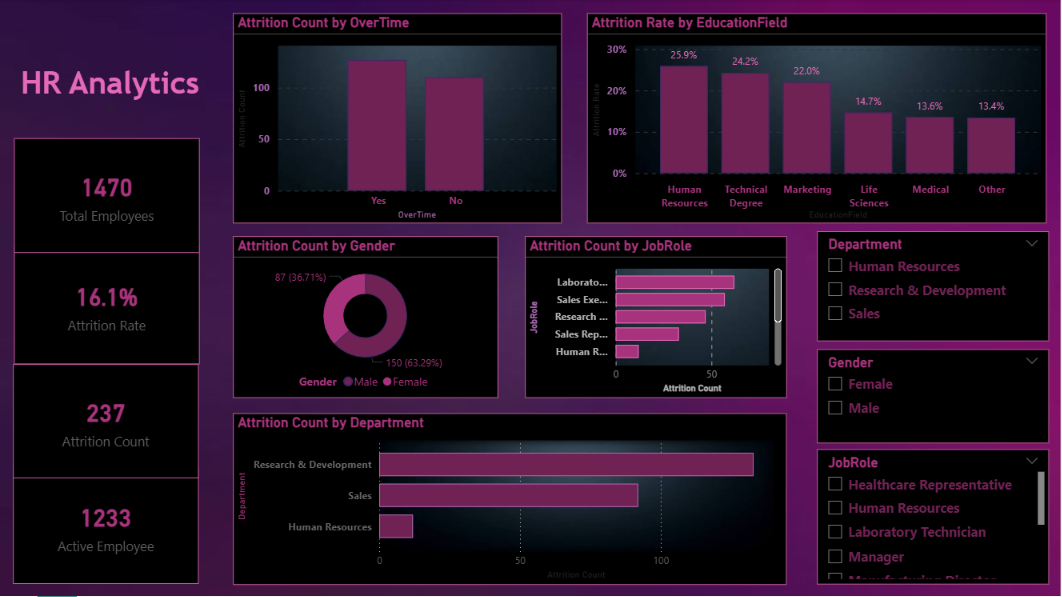

What the dashboard file says about the page in this screenshot:
{"tool":"powerbi","page":{"name":"Page 1","canvas":[1280,720],"ordinal":0},"visuals":[{"type":"card","fields":{"Values":["Age Group = Switch(True(),WA_Fn-UseC_-HR-Employee-Attrition.Attrition Rate"]},"box":[16.9,298,224.4,142.4],"z":0},{"type":"card","fields":{"Values":["Age Group = Switch(True(),WA_Fn-UseC_-HR-Employee-Attrition.Total Employees"]},"box":[16.9,167.7,224.4,138.7],"z":1000},{"type":"clusteredBarChart","fields":{"Y":["WA_Fn-UseC_-HR-Employee-Attrition.Attrition Count"],"Category":["WA_Fn-UseC_-HR-Employee-Attrition.Department"]},"box":[281.3,499.5,668.3,207.2],"z":2000},{"type":"donutChart","fields":{"Category":["WA_Fn-UseC_-HR-Employee-Attrition.Gender"],"Y":["Age Group = Switch(True(),WA_Fn-UseC_-HR-Employee-Attrition.Attrition Count"]},"box":[281.3,285.4,319.7,194.9],"z":3000},{"type":"clusteredBarChart","fields":{"Category":["WA_Fn-UseC_-HR-Employee-Attrition.JobRole"],"Y":["WA_Fn-UseC_-HR-Employee-Attrition.Attrition Count"]},"box":[634,285.4,315.6,194.9],"z":4000},{"type":"clusteredColumnChart","fields":{"Category":["WA_Fn-UseC_-HR-Employee-Attrition.OverTime"],"Y":["WA_Fn-UseC_-HR-Employee-Attrition.Attrition Count"]},"box":[281.3,16.5,396.6,253.9],"z":5000},{"type":"clusteredColumnChart","fields":{"Category":["Age Group = Switch(True(),WA_Fn-UseC_-HR-Employee-Attrition.EducationField"],"Y":["Age Group = Switch(True(),WA_Fn-UseC_-HR-Employee-Attrition.Attrition Rate"]},"box":[708.1,16.5,554.4,253.9],"z":6000},{"type":"slicer","fields":{"Values":["Age Group = Switch(True(),WA_Fn-UseC_-HR-Employee-Attrition.Department"]},"box":[985.3,279.9,279.9,133.1],"z":7000},{"type":"slicer","fields":{"Values":["Age Group = Switch(True(),WA_Fn-UseC_-HR-Employee-Attrition.Gender"]},"box":[985.3,422.6,279.9,113.9],"z":8000},{"type":"slicer","fields":{"Values":["Age Group = Switch(True(),WA_Fn-UseC_-HR-Employee-Attrition.JobRole"]},"box":[985.3,543.4,279.9,163.3],"z":9000},{"type":"card","fields":{"Values":["Age Group = Switch(True(),WA_Fn-UseC_-HR-Employee-Attrition.Active Employee"]},"box":[15.7,564.6,224.4,141.2],"z":10000},{"type":"card","fields":{"Values":["Age Group = Switch(True(),WA_Fn-UseC_-HR-Employee-Attrition.Attrition Count"]},"box":[15.7,440.4,224.4,137.5],"z":11000},{"type":"textbox","box":[15.7,73.6,234,80.8],"z":12000}]}

Visuals, with their boxes in screenshot pixels (x1, y1, x2, y2), scaled from the page's 1280x720 canvas onto the 1062x597 screenshot:
card - Age Group = Switch(True(),WA_Fn-UseC_-HR-Employee-Attrition.Attrition Rate: box=[14, 247, 200, 365]
card - Age Group = Switch(True(),WA_Fn-UseC_-HR-Employee-Attrition.Total Employees: box=[14, 139, 200, 254]
clusteredBarChart - WA_Fn-UseC_-HR-Employee-Attrition.Attrition Count x WA_Fn-UseC_-HR-Employee-Attrition.Department: box=[233, 414, 788, 586]
donutChart - WA_Fn-UseC_-HR-Employee-Attrition.Gender x Age Group = Switch(True(),WA_Fn-UseC_-HR-Employee-Attrition.Attrition Count: box=[233, 237, 499, 398]
clusteredBarChart - WA_Fn-UseC_-HR-Employee-Attrition.JobRole x WA_Fn-UseC_-HR-Employee-Attrition.Attrition Count: box=[526, 237, 788, 398]
clusteredColumnChart - WA_Fn-UseC_-HR-Employee-Attrition.OverTime x WA_Fn-UseC_-HR-Employee-Attrition.Attrition Count: box=[233, 14, 562, 224]
clusteredColumnChart - Age Group = Switch(True(),WA_Fn-UseC_-HR-Employee-Attrition.EducationField x Age Group = Switch(True(),WA_Fn-UseC_-HR-Employee-Attrition.Attrition Rate: box=[588, 14, 1047, 224]
slicer - Age Group = Switch(True(),WA_Fn-UseC_-HR-Employee-Attrition.Department: box=[817, 232, 1050, 342]
slicer - Age Group = Switch(True(),WA_Fn-UseC_-HR-Employee-Attrition.Gender: box=[817, 350, 1050, 445]
slicer - Age Group = Switch(True(),WA_Fn-UseC_-HR-Employee-Attrition.JobRole: box=[817, 451, 1050, 586]
card - Age Group = Switch(True(),WA_Fn-UseC_-HR-Employee-Attrition.Active Employee: box=[13, 468, 199, 585]
card - Age Group = Switch(True(),WA_Fn-UseC_-HR-Employee-Attrition.Attrition Count: box=[13, 365, 199, 479]
textbox: box=[13, 61, 207, 128]
